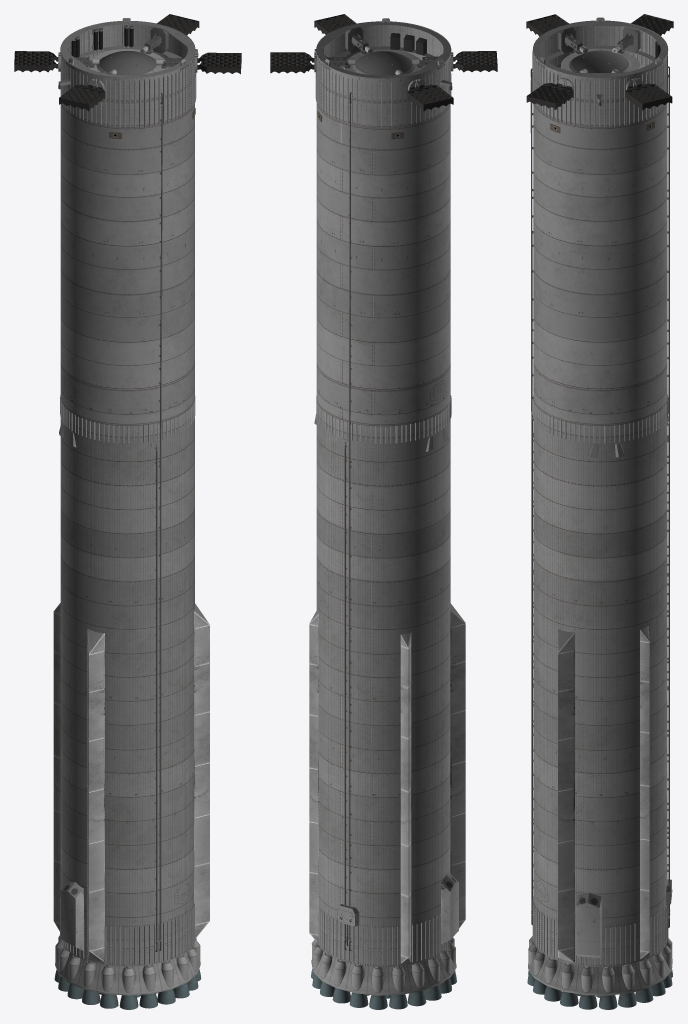
The model's file is starShip1.glb.
The picture shows the model from 3 angles, left to right: view 1: azimuth 30°, elevation 25°; view 2: azimuth 150°, elevation 25°; view 3: azimuth 270°, elevation 25°; orthographic projection.
Visible parts, largest first — view 1: bc4cb970-7823-411e-83e0-e34554ae727a; view 2: bc4cb970-7823-411e-83e0-e34554ae727a; view 3: bc4cb970-7823-411e-83e0-e34554ae727a.
Boxes of the visible parts, bbox=[...] form: bc4cb970-7823-411e-83e0-e34554ae727a: bbox=[14, 14, 241, 1009]; bc4cb970-7823-411e-83e0-e34554ae727a: bbox=[270, 14, 497, 1009]; bc4cb970-7823-411e-83e0-e34554ae727a: bbox=[526, 14, 673, 1009].
Size of the model in its own units: 14.77 by 71.52 by 10.22.
Materials: 1 (1 with a texture image).
